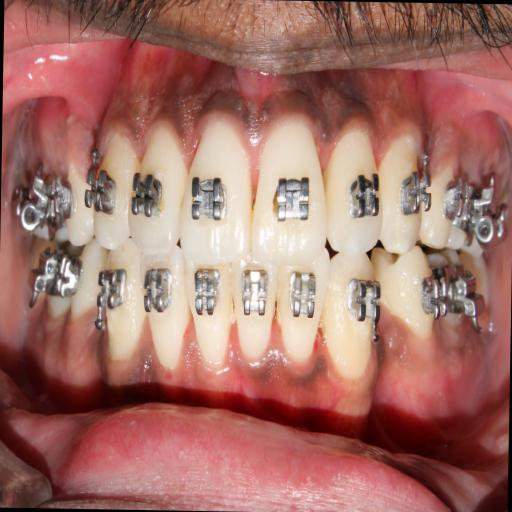correct_brace: (268, 171, 314, 231), (128, 158, 166, 230), (190, 168, 232, 230), (344, 168, 382, 222), (286, 268, 316, 324), (241, 266, 269, 320), (192, 269, 222, 316), (143, 264, 172, 312)
incorrect_brace: (324, 128, 384, 256), (128, 117, 184, 248), (141, 248, 192, 369), (280, 260, 330, 369)
